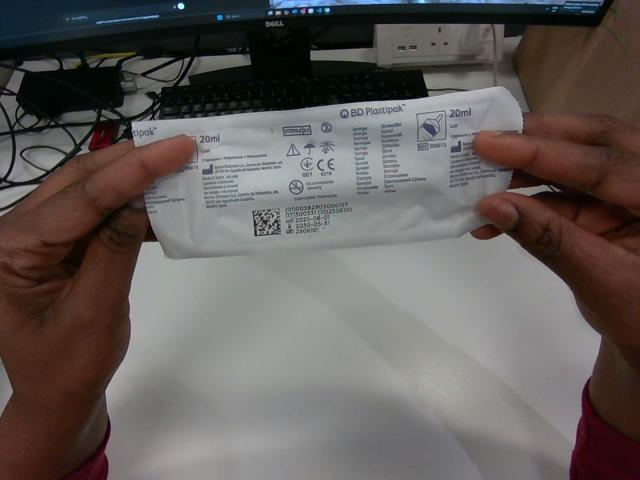syringe: (133, 87, 522, 258)
